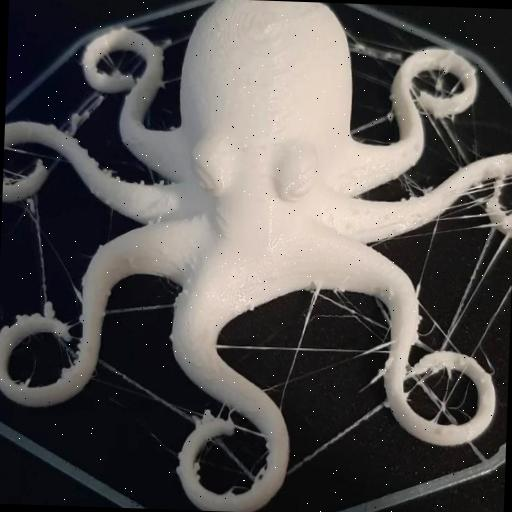stringing: (420, 188, 508, 365), (84, 351, 200, 438), (317, 290, 400, 390), (18, 182, 62, 334)
